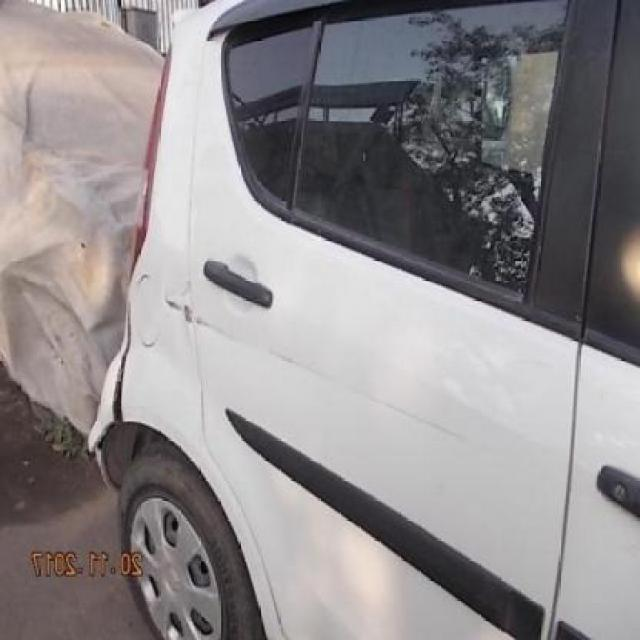damage: (161, 284, 497, 455), (108, 302, 133, 421)
